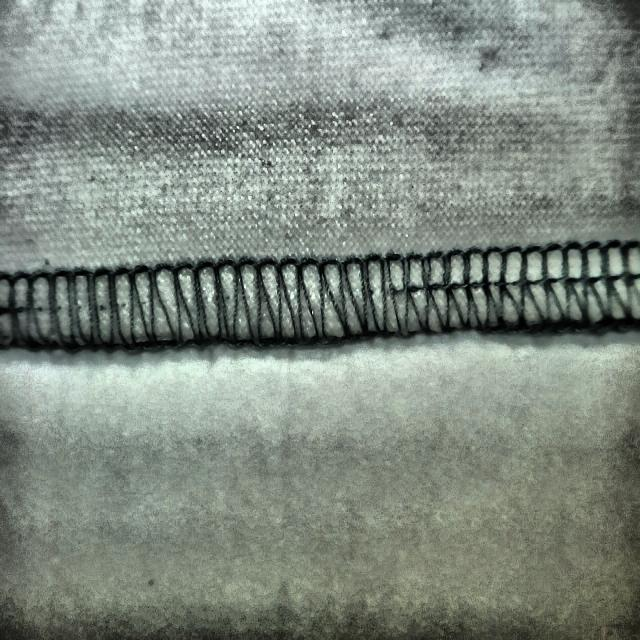Stitch: (218, 244, 640, 348)
